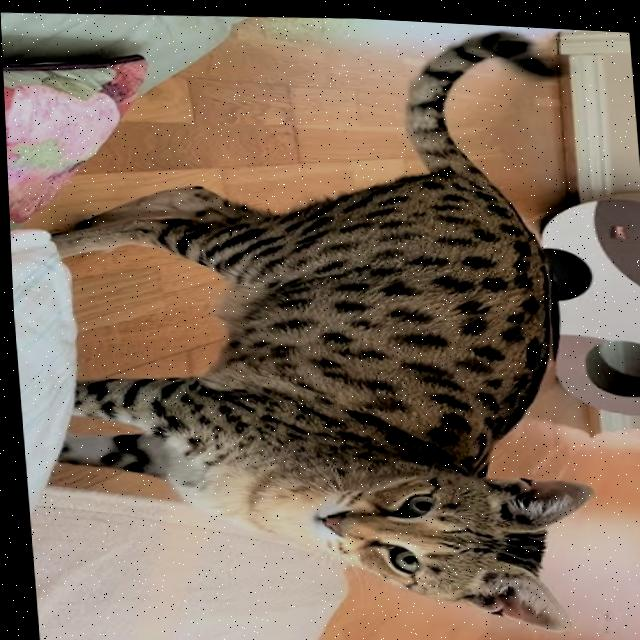Savannah: (8, 0, 613, 640)
